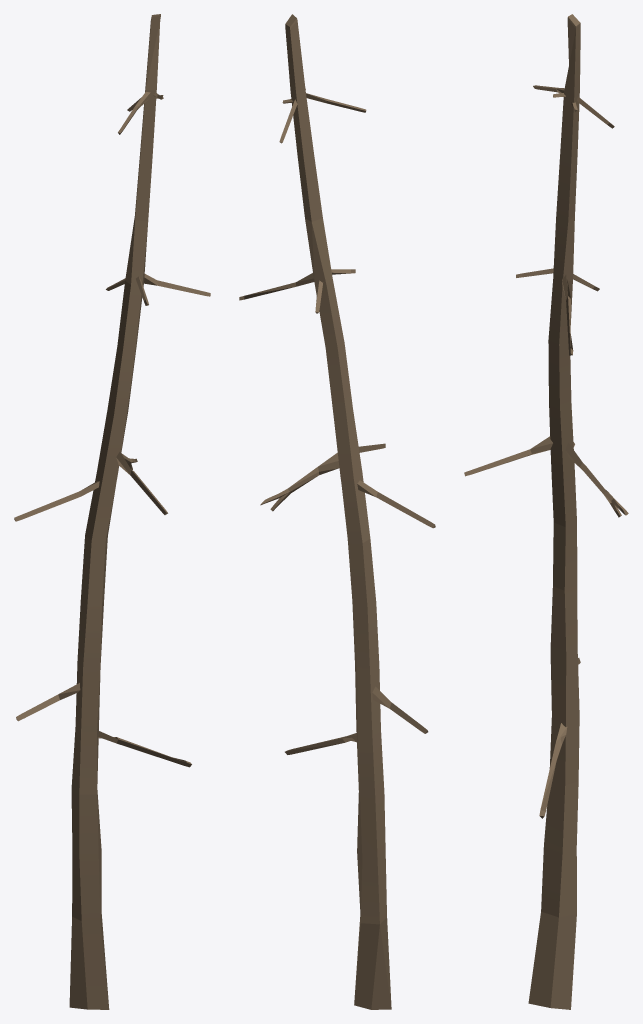
The model's file is pine_bare_8.FBX.
3 views of the same model, side by side, from view 1: azimuth 30°, elevation 25°; view 2: azimuth 150°, elevation 25°; view 3: azimuth 270°, elevation 25° (orthographic). The views are drawn at different scales.
Parts seen in each view (by area): view 1: pine_bare_8; view 2: pine_bare_8; view 3: pine_bare_8.
Boxes of the visible parts, box(x1,y1,x2,y2) form: pine_bare_8: box(14, 14, 210, 1009); pine_bare_8: box(239, 14, 435, 1009); pine_bare_8: box(464, 14, 628, 1009).
Size of the model in its own units: 1.56 by 7.37 by 1.07.
